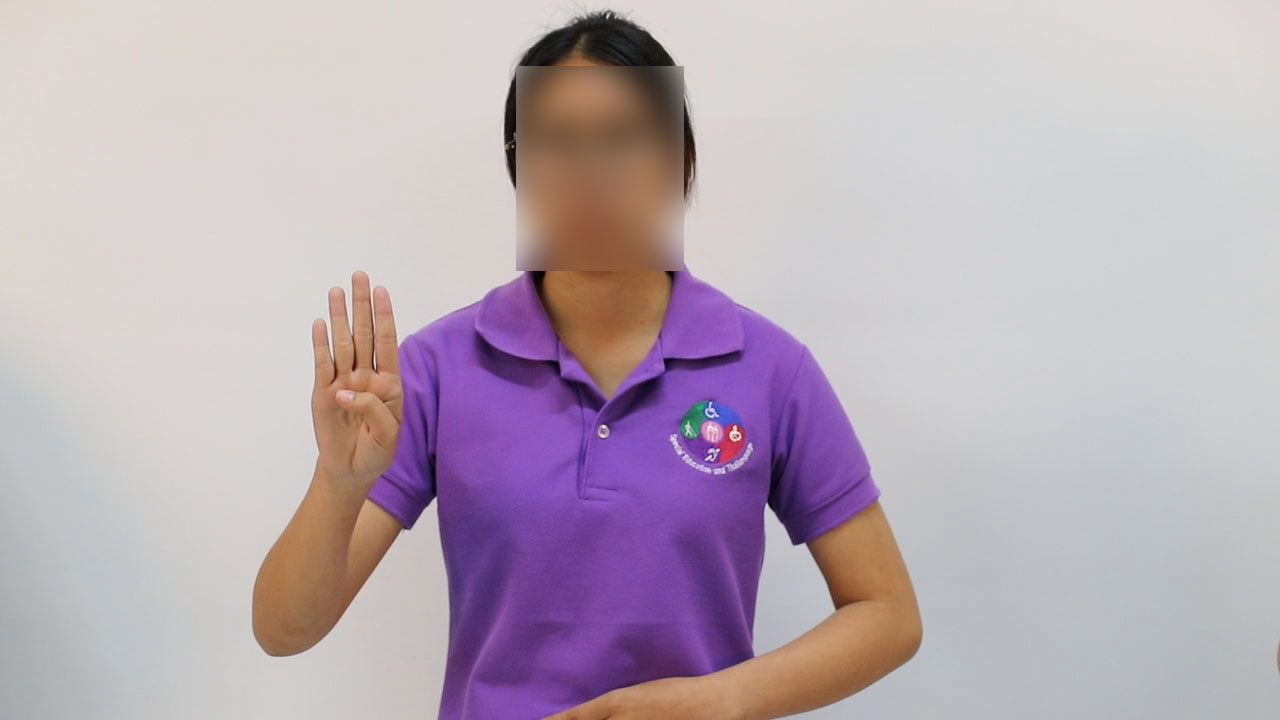bor: (288, 256, 419, 510)
